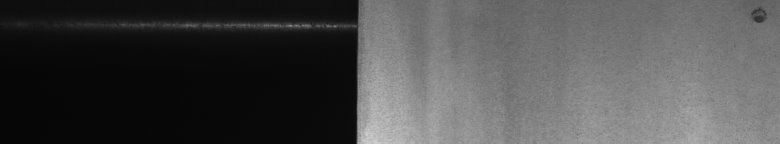fi: (747, 4, 772, 32)
